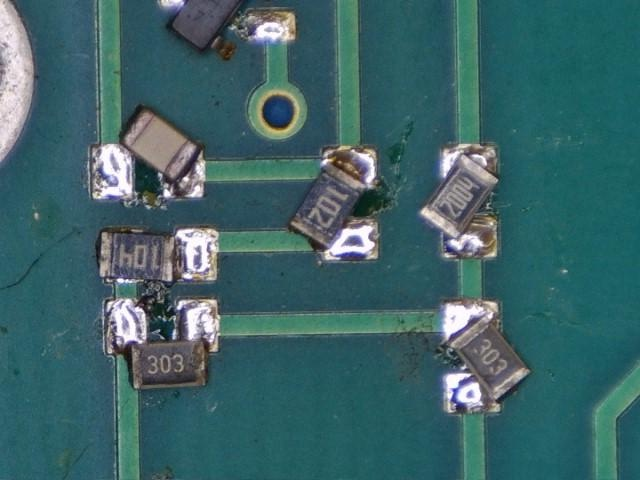pcb_defect: (91, 104, 205, 201), (104, 296, 220, 390), (287, 146, 380, 261), (441, 299, 532, 414), (417, 144, 501, 259), (159, 0, 297, 59), (98, 227, 218, 284)
